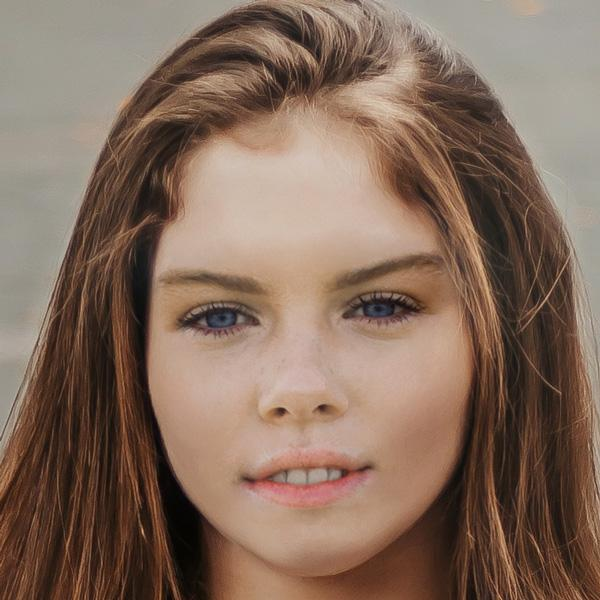Eyes: (168, 288, 270, 351), (331, 282, 432, 344)
